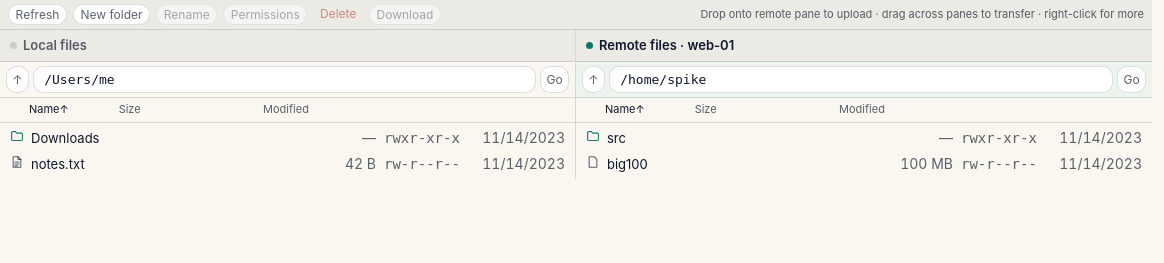
it: FilePanel › 工具栏下载：双击/下载按钮 → sftp_download（local 缺省落下载目录）
What coordinates should you click on to do the following:
click the text "big100"
I would click on:
 (627, 164)
Its box is x1=607 y1=156 x2=648 y2=172.
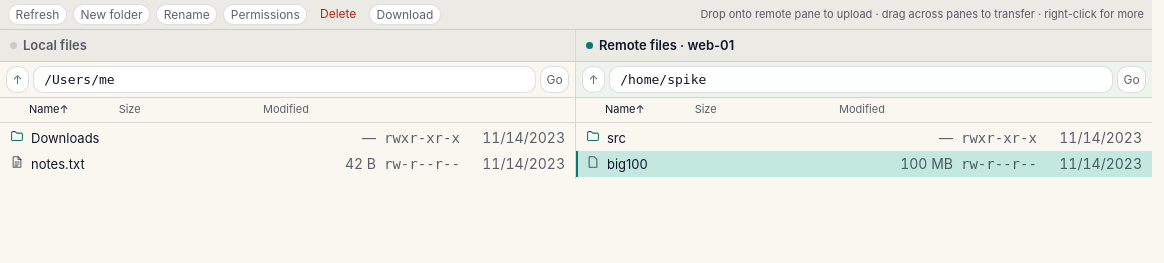
What coordinates should you click on to do the following:
click the button with test id "fb-download"
I would click on:
 (405, 14)
Its box is x1=369 y1=4 x2=441 y2=25.
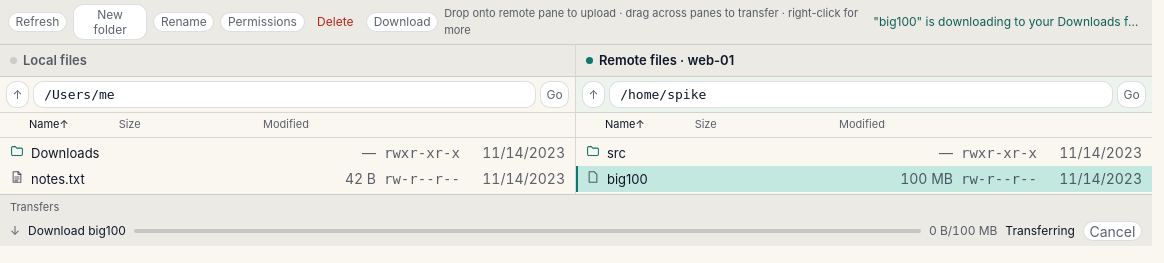
Check: the message with test id "file-notice" shows "Downloads", box x1=873 y1=14 x2=1152 y2=29
